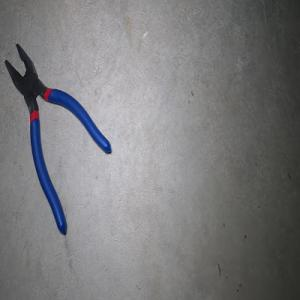Pliers: (4, 43, 111, 235)
